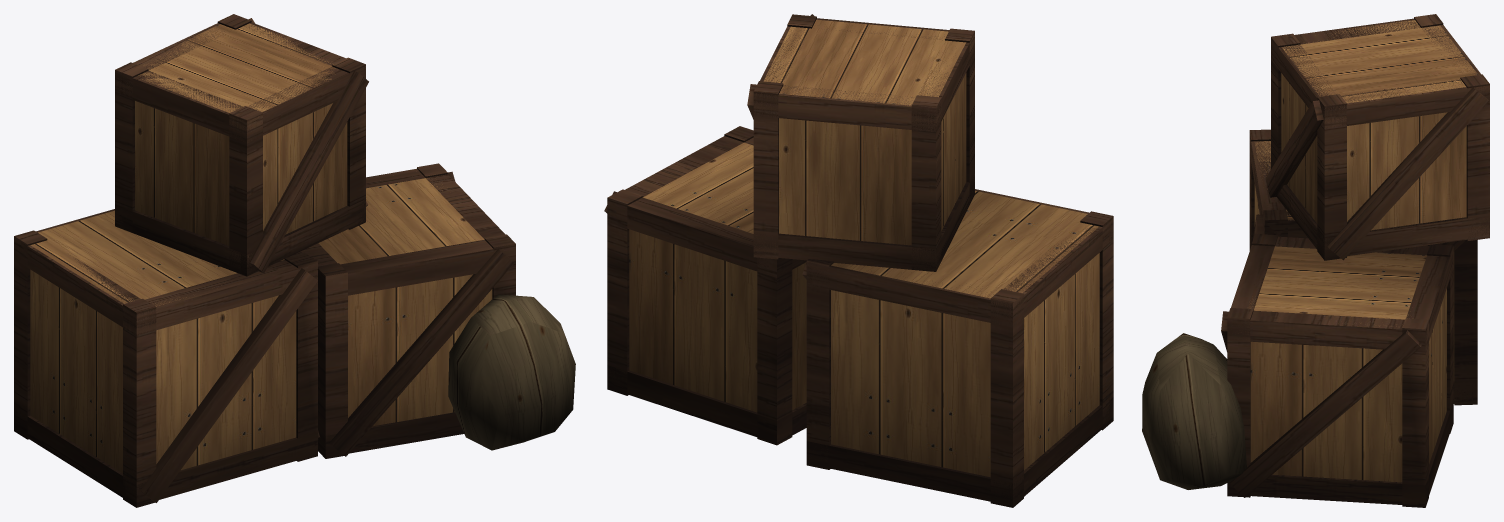
Rendered from town_crates.glb.
The picture shows the model from 3 angles, left to right: view 1: azimuth 30°, elevation 25°; view 2: azimuth 150°, elevation 25°; view 3: azimuth 270°, elevation 25°; orthographic projection. The views are drawn at different scales.
Parts seen in each view (by area): view 1: town_crates; view 2: town_crates; view 3: town_crates.
Boxes of the visible parts, <box> form: town_crates: <box>14,14,575,507</box>; town_crates: <box>604,14,1113,507</box>; town_crates: <box>1142,14,1489,507</box>.
Size of the model in its own units: 1.42 by 1.13 by 1.04.
3 materials, 3 textured.
